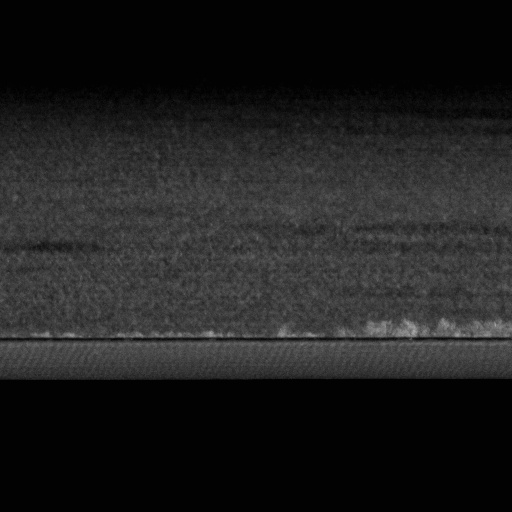jiaofeng: (0, 334, 511, 348)
